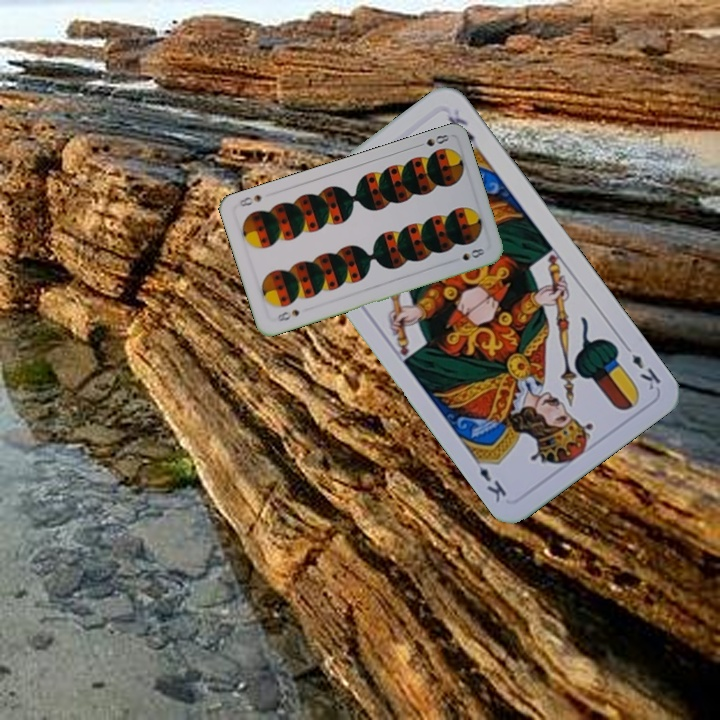EK: (619, 339, 664, 393)
S8: (412, 130, 452, 150), (273, 305, 302, 324)
